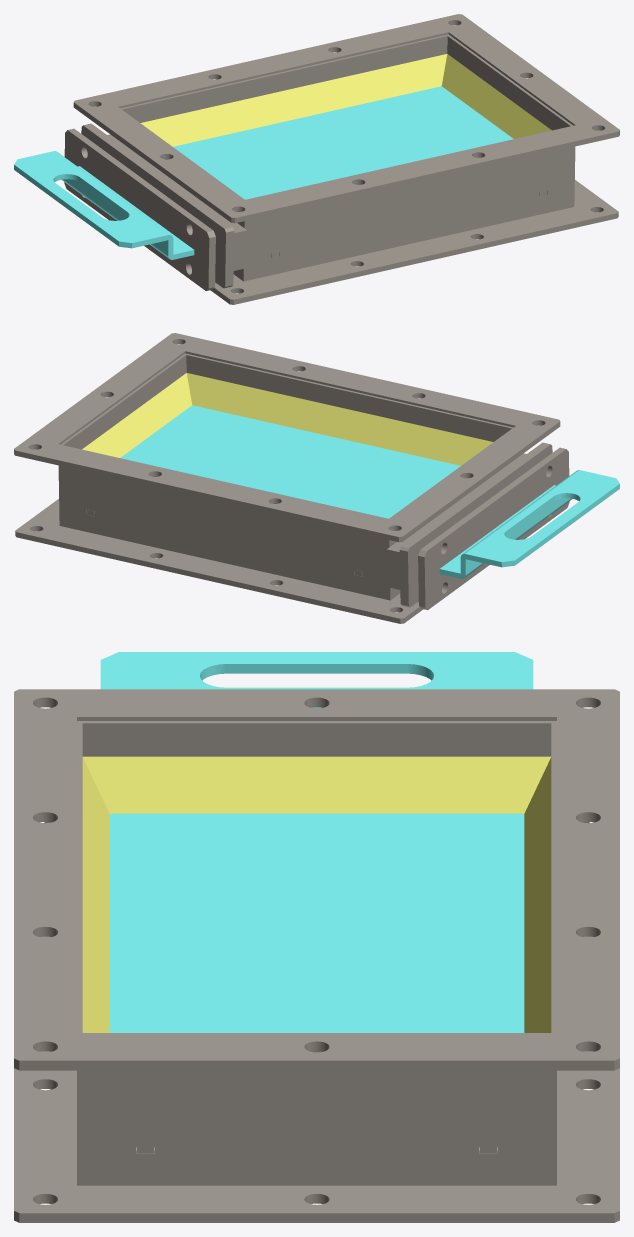
Rendered from assembly-26.glb.
The picture shows the model from 3 angles, top to bottom: view 1: azimuth 30°, elevation 25°; view 2: azimuth 150°, elevation 25°; view 3: azimuth 270°, elevation 25°; orthographic projection. The views are drawn at different scales.
Parts seen in each view (by area): view 1: 閘閥開關-3.-9; view 2: 閘閥開關-3.-9; view 3: 閘閥開關-3.-9.
Boxes of the visible parts, x1,y1,x2,y2 form: 閘閥開關-3.-9: (14, 14, 619, 304); 閘閥開關-3.-9: (14, 333, 619, 623); 閘閥開關-3.-9: (14, 652, 619, 1222).
Bounding box in the file's own units: 0.5738 × 0.1082 × 0.336.
